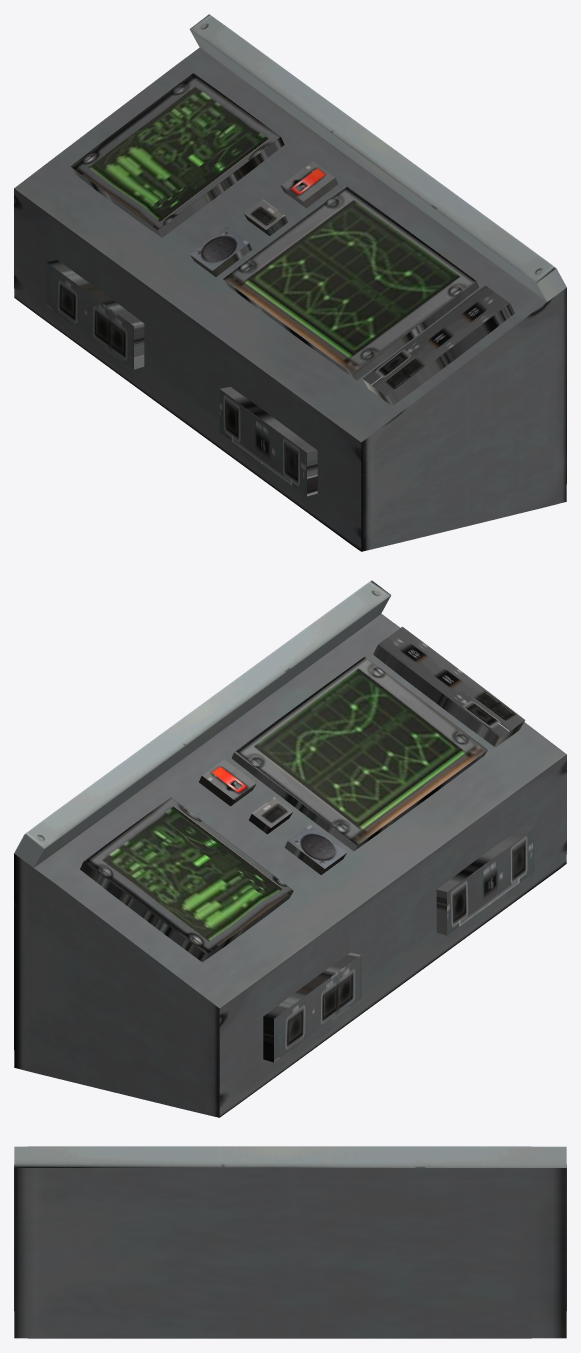
Rendered from Console.fbx.
3 renders of one model, top to bottom at view 1: azimuth 30°, elevation 25°; view 2: azimuth 150°, elevation 25°; view 3: azimuth 270°, elevation 25°, orthographic. The views are drawn at different scales.
Visible parts, largest first — view 1: Cube.033; view 2: Cube.033; view 3: Cube.033.
Boxes of the visible parts, x1,y1,x2,y2 form: Cube.033: (14, 14, 566, 551); Cube.033: (14, 580, 566, 1117); Cube.033: (14, 1146, 566, 1338).
Bounding box in the file's own units: 8.91 × 9.28 × 24.71.
